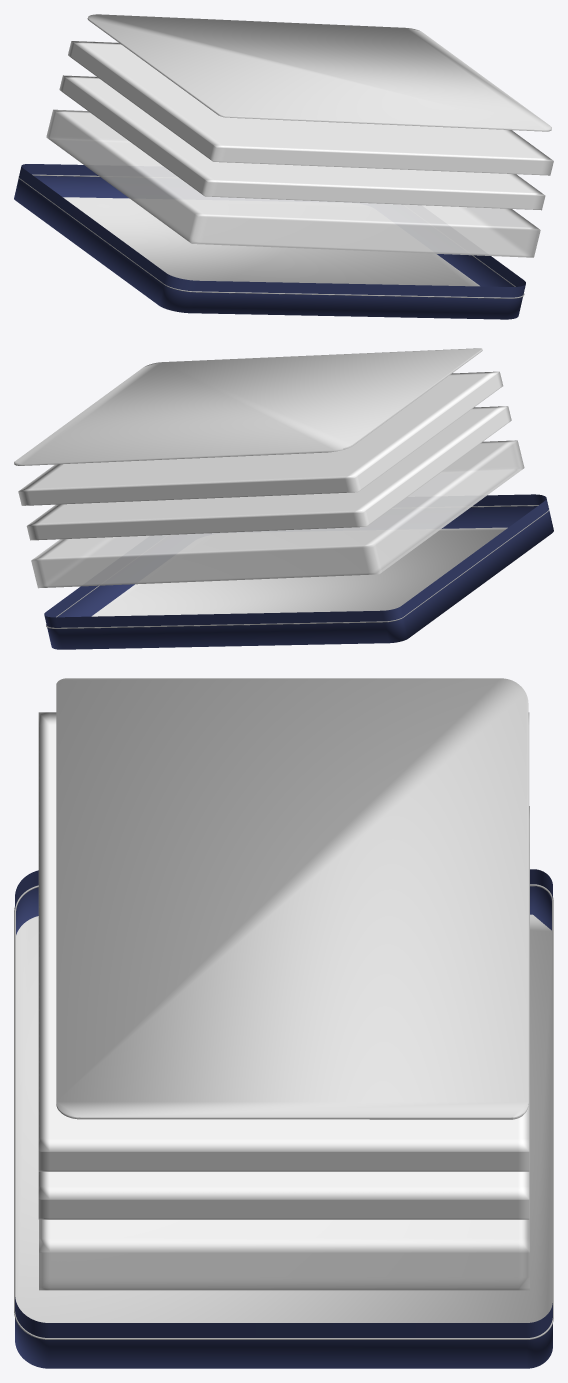
The model's file is Ortho_Premium_ET.glb.
The picture shows the model from 3 angles, top to bottom: view 1: azimuth 30°, elevation 25°; view 2: azimuth 150°, elevation 25°; view 3: azimuth 270°, elevation 25°; orthographic projection. The views are drawn at different scales.
Parts seen in each view (by area): view 1: Cube.098, Cube.096, Cube.090, Cube.100, Cube.099; view 2: Cube.098, Cube.096, Cube.090, Cube.100, Cube.099; view 3: Cube.096, Cube.098, Cube.090, Cube.100, Cube.099.
Boxes of the visible parts, x1,y1,x2,y2 form: Cube.098: (14, 164, 525, 319); Cube.096: (87, 14, 551, 131); Cube.090: (46, 109, 540, 257); Cube.100: (68, 41, 553, 175); Cube.099: (59, 75, 545, 210); Cube.098: (44, 494, 553, 649); Cube.096: (14, 348, 482, 465); Cube.090: (31, 440, 524, 588); Cube.100: (18, 371, 503, 505); Cube.099: (26, 406, 511, 540); Cube.096: (56, 678, 528, 1119); Cube.098: (14, 869, 553, 1368); Cube.090: (39, 806, 529, 1290); Cube.100: (38, 712, 529, 1171); Cube.099: (38, 1171, 529, 1219).
Size of the model in its own units: 15.91 by 10.11 by 11.01.
9 materials, 1 textured.
